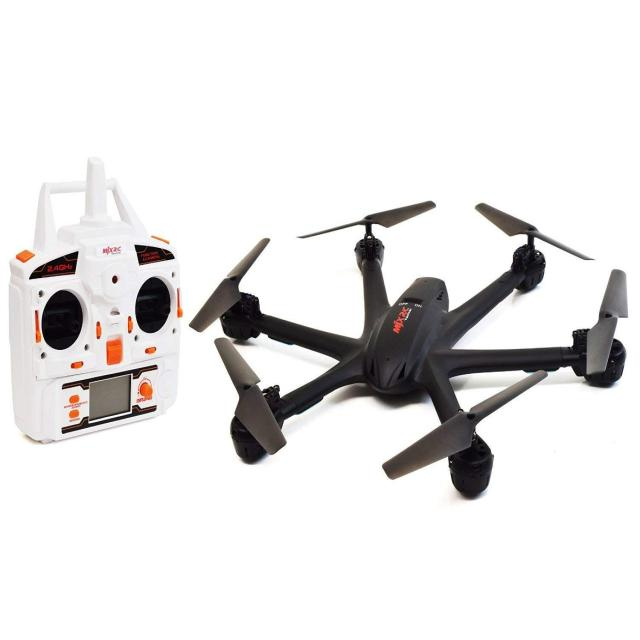drone: (186, 166, 625, 528)
